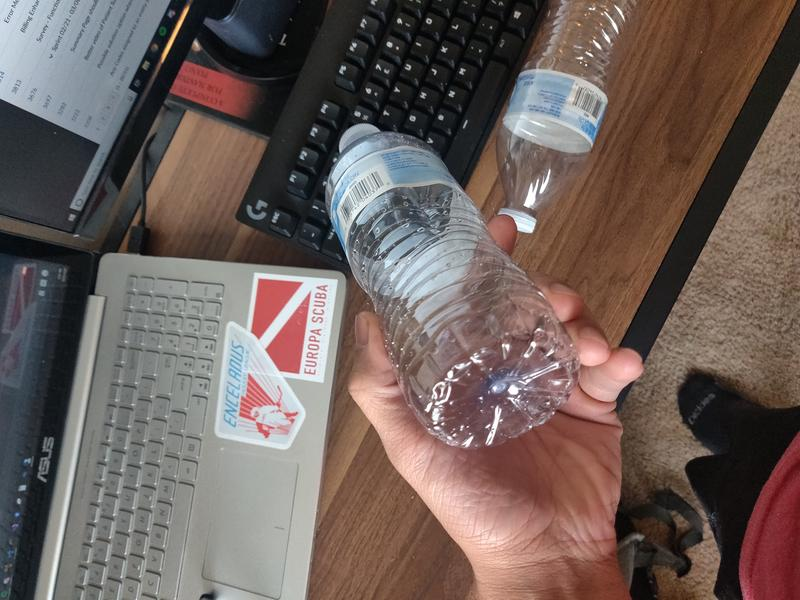bottle: (325, 123, 583, 448), (496, 1, 635, 236)
